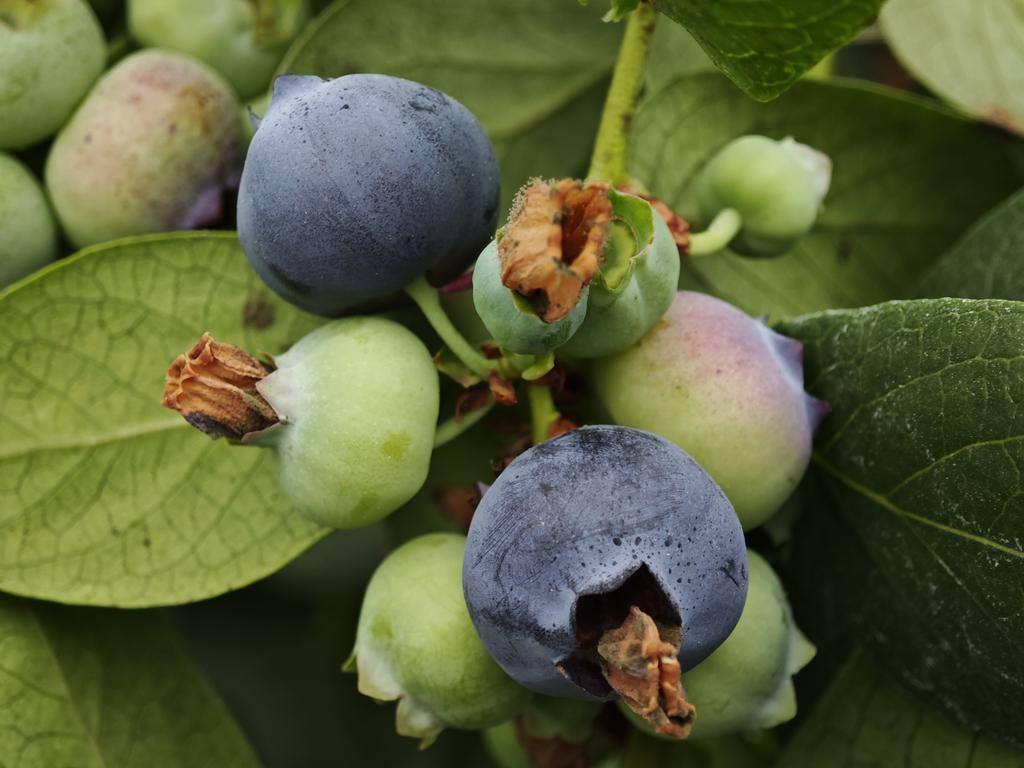RipeBlueBerry: (472, 421, 756, 702), (238, 72, 500, 314)
UnripeBlueBerry: (212, 319, 438, 528)
